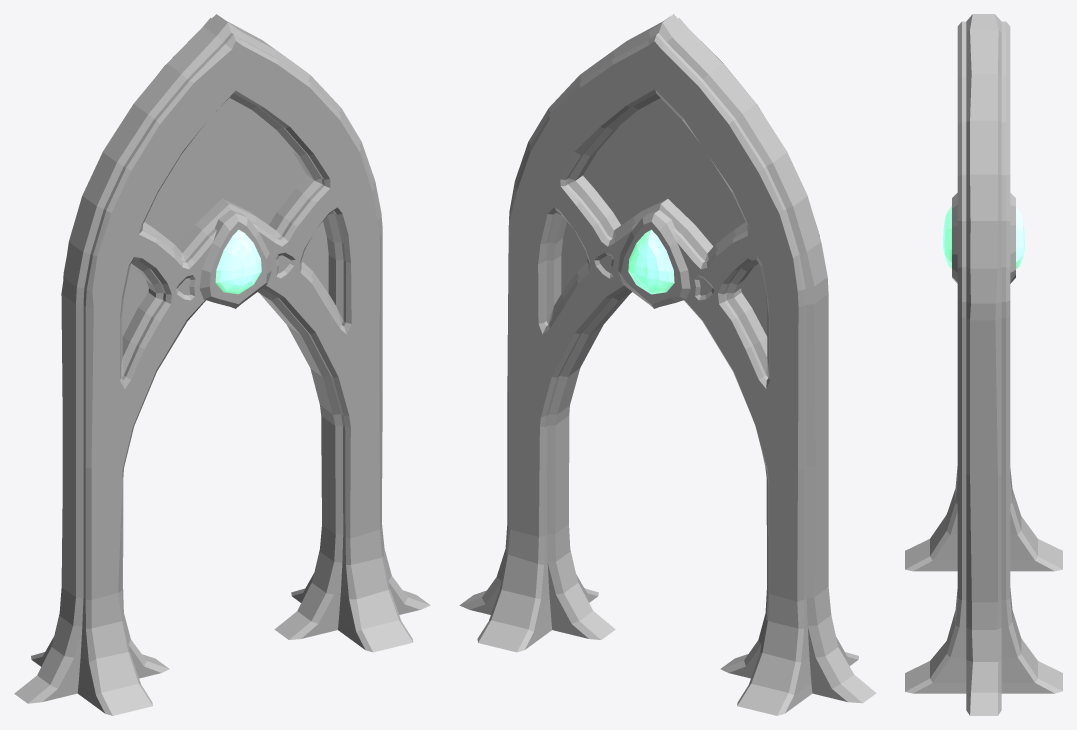
File: SM_Bld_Arch_01.fbx
3 renders of one model, left to right at view 1: azimuth 30°, elevation 25°; view 2: azimuth 150°, elevation 25°; view 3: azimuth 270°, elevation 25°, orthographic. The views are drawn at different scales.
Parts seen in each view (by area): view 1: SM_Bld_Arch_01; view 2: SM_Bld_Arch_01; view 3: SM_Bld_Arch_01.
Part boxes in pixels (<box>): SM_Bld_Arch_01: <box>14,14,430,715</box>; SM_Bld_Arch_01: <box>459,14,876,715</box>; SM_Bld_Arch_01: <box>905,14,1062,715</box>.
Bounding box in the file's own units: 628 × 941 × 222.
